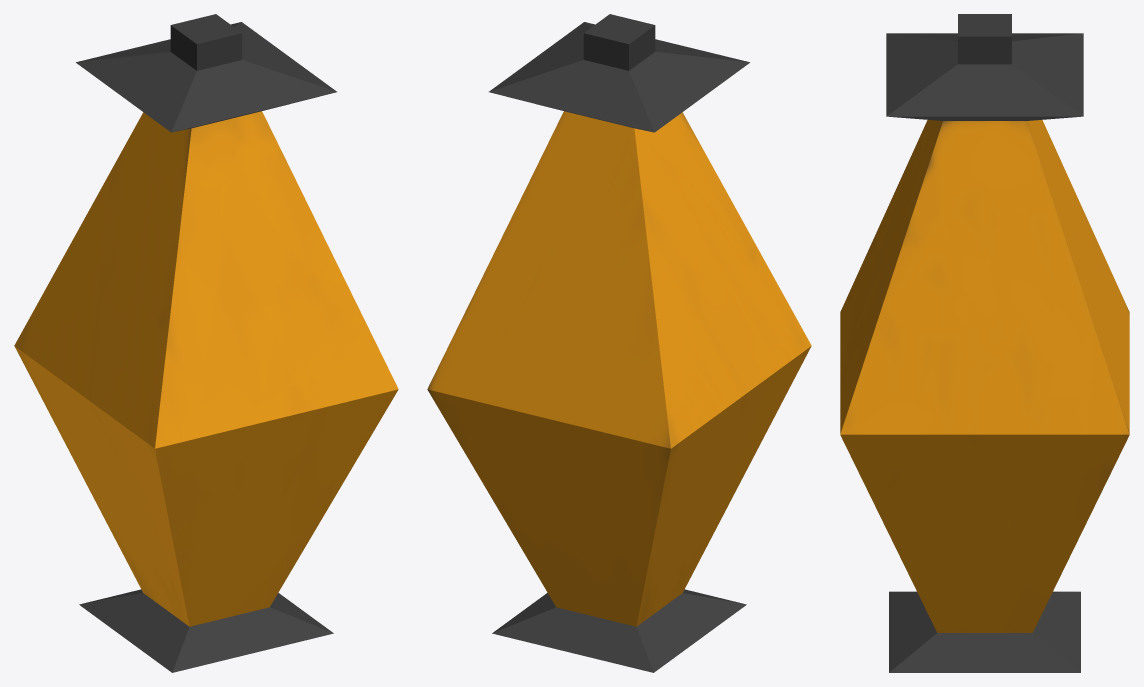
File: lamp2.dae
3 renders of one model, left to right at view 1: azimuth 30°, elevation 25°; view 2: azimuth 150°, elevation 25°; view 3: azimuth 270°, elevation 25°, orthographic. The views are drawn at different scales.
Parts seen in each view (by area): view 1: lamper; view 2: lamper; view 3: lamper.
Part boxes in pixels (bbox=[...]): lamper: bbox=[14, 14, 398, 672]; lamper: bbox=[427, 14, 811, 672]; lamper: bbox=[840, 14, 1129, 672].
Size of what is drawn, in the model's own units: 0.863 by 0.863 by 2.06.
